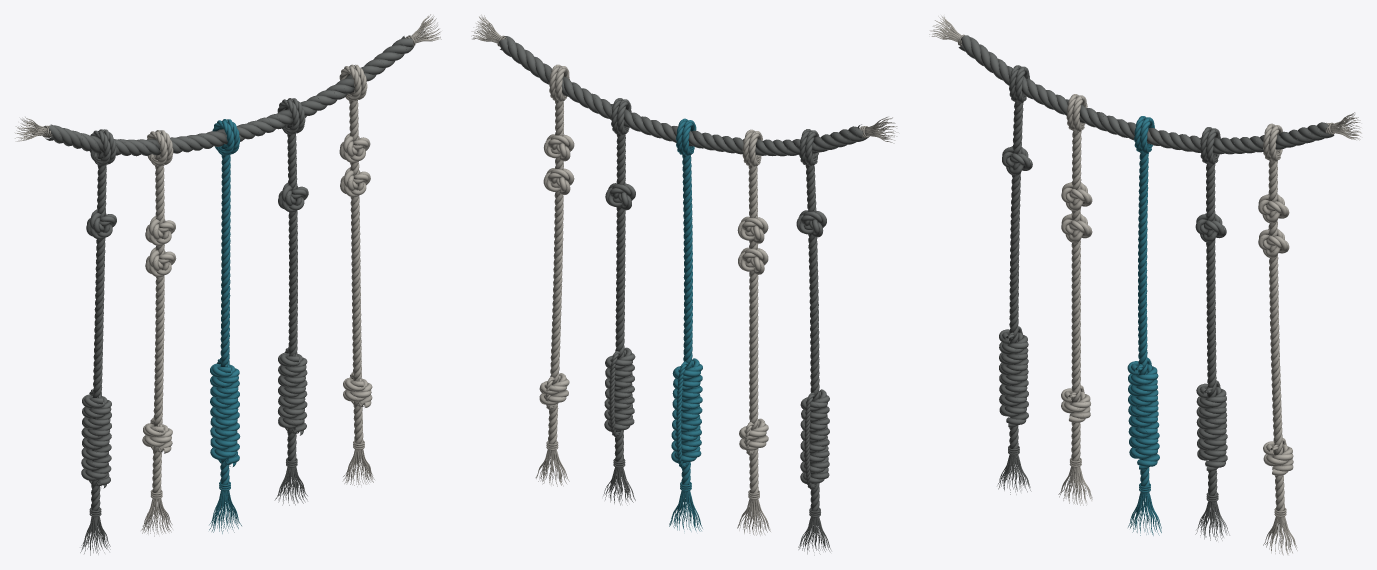
File: quipu-spanish-alphabet.glb
The picture shows the model from 3 angles, left to right: view 1: azimuth 30°, elevation 25°; view 2: azimuth 150°, elevation 25°; view 3: azimuth 330°, elevation 25°; orthographic projection.
Visible parts, largest first — view 1: Graphite textile, Silver textile, Turquoise textile; view 2: Graphite textile, Silver textile, Turquoise textile; view 3: Graphite textile, Silver textile, Turquoise textile.
Part boxes in pixels (x1=…): Graphite textile: x1=45, y1=36, x2=414, y2=555; Silver textile: x1=14, y1=14, x2=441, y2=536; Turquoise textile: x1=209, y1=119, x2=241, y2=533; Graphite textile: x1=499, y1=36, x2=869, y2=555; Silver textile: x1=471, y1=14, x2=898, y2=535; Turquoise textile: x1=669, y1=118, x2=702, y2=531; Graphite textile: x1=958, y1=35, x2=1334, y2=541; Silver textile: x1=929, y1=15, x2=1362, y2=555; Turquoise textile: x1=1127, y1=116, x2=1161, y2=535.
Size of the model in its own units: 10.67 by 11.19 by 0.7502.
